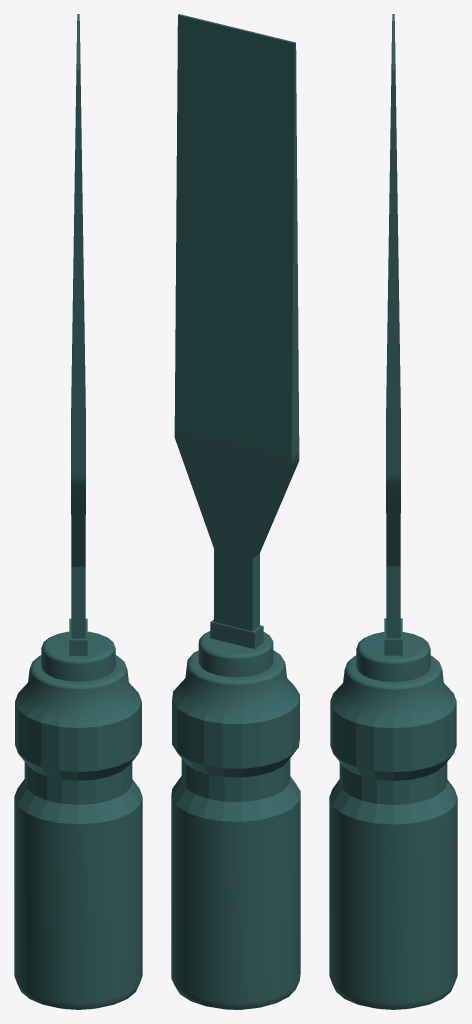
The model's file is lixa 2 low.fbx.
3 renders of one model, left to right at view 1: azimuth 90°, elevation 25°; view 2: azimuth 150°, elevation 25°; view 3: azimuth 270°, elevation 25°, orthographic.
Parts seen in each view (by area): view 1: lixa2_01_low, lixa2_02_low; view 2: lixa2_02_low, lixa2_01_low; view 3: lixa2_01_low, lixa2_02_low.
Part boxes in pixels (bbox=[...]): lixa2_01_low: bbox=[14, 631, 142, 1009]; lixa2_02_low: bbox=[69, 14, 87, 655]; lixa2_02_low: bbox=[174, 14, 299, 648]; lixa2_01_low: bbox=[171, 631, 300, 1009]; lixa2_01_low: bbox=[329, 632, 457, 1009]; lixa2_02_low: bbox=[384, 14, 402, 655].
Bounding box in the file's own units: 5.17 × 40.73 × 4.99.
